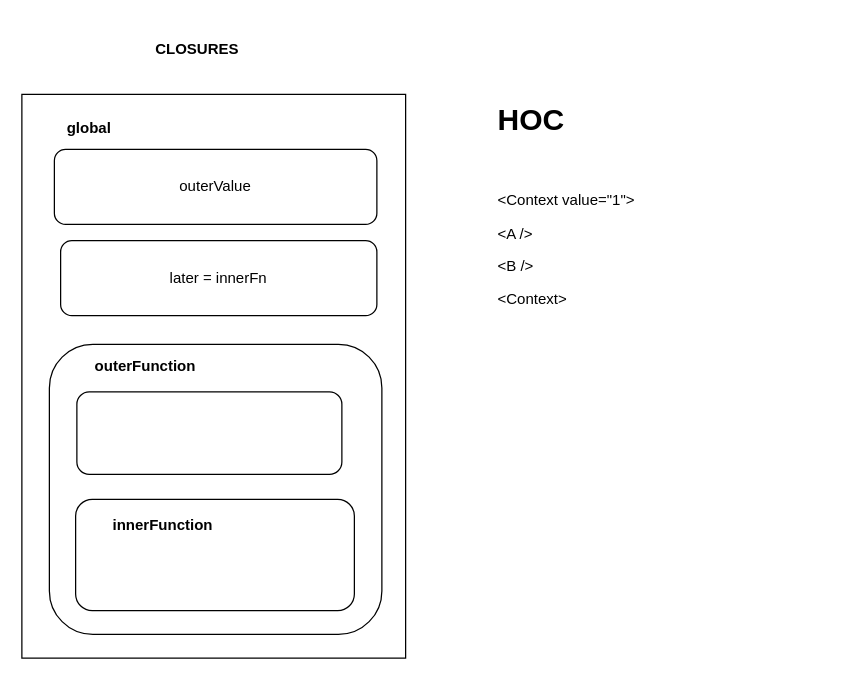
Some shapes in this 863 by 680 pixel diagram are drawn without their labels. The box of each missing label's shape, as (x1, y1, x2, y2) in pixels:
console.log(outerValue); console.log(innerValue);: (74, 498, 354, 611)
innerValue: (76, 391, 342, 474)
